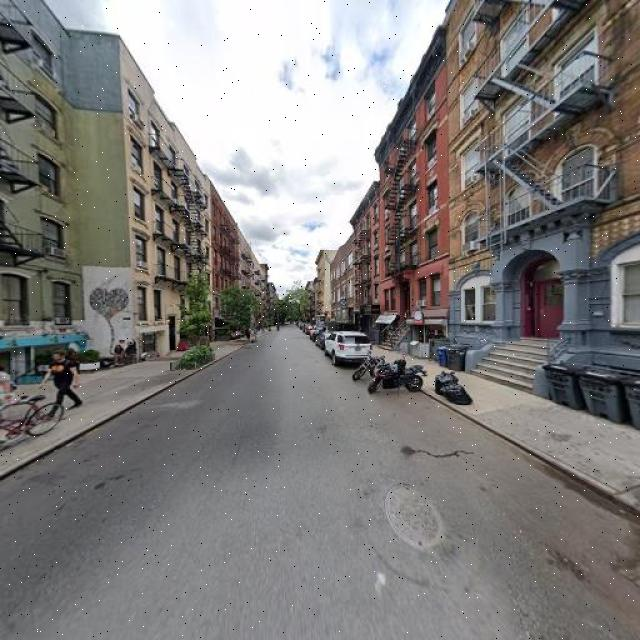Building: (459, 1, 640, 407), (1, 1, 72, 377), (383, 7, 455, 360), (137, 72, 210, 357)
